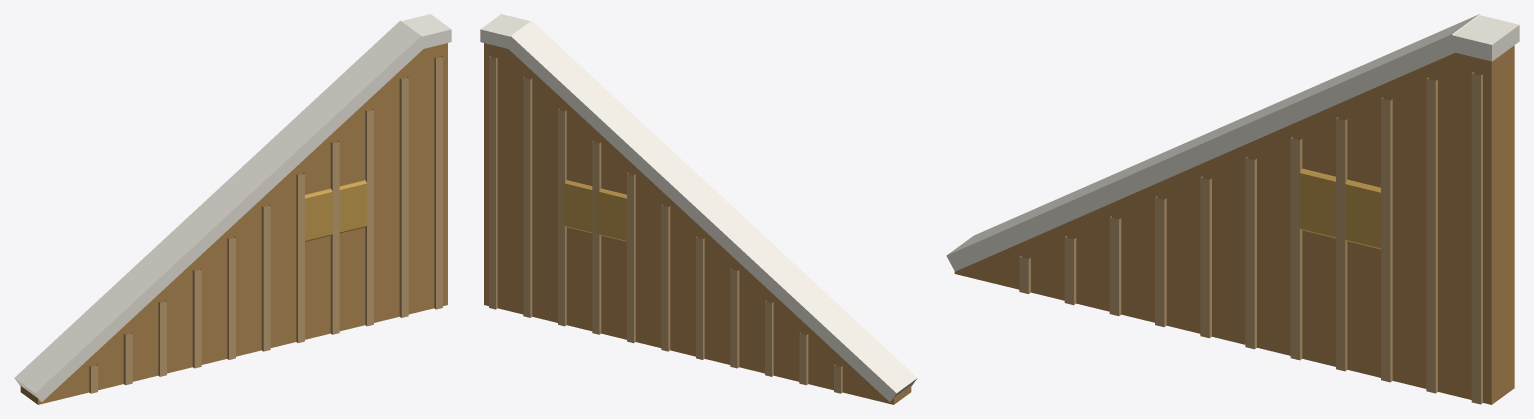
Rendered from hall_sawtooth_gable.glb.
3 renders of one model, left to right at view 1: azimuth 30°, elevation 25°; view 2: azimuth 150°, elevation 25°; view 3: azimuth 330°, elevation 25°, orthographic. The views are drawn at different scales.
Parts seen in each view (by area): view 1: gable; view 2: gable; view 3: gable.
Part boxes in pixels (x1,y1,x2,y2): gable: [14, 14, 451, 404]; gable: [480, 14, 917, 404]; gable: [946, 14, 1519, 404].
Size of the model in its own units: 4.12 by 2.62 by 0.36.
